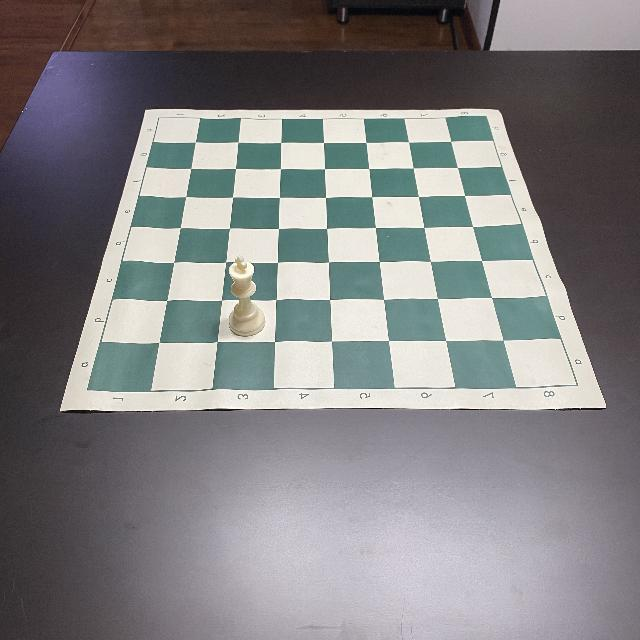board: (61, 108, 605, 414)
white-king: (228, 255, 266, 337)
